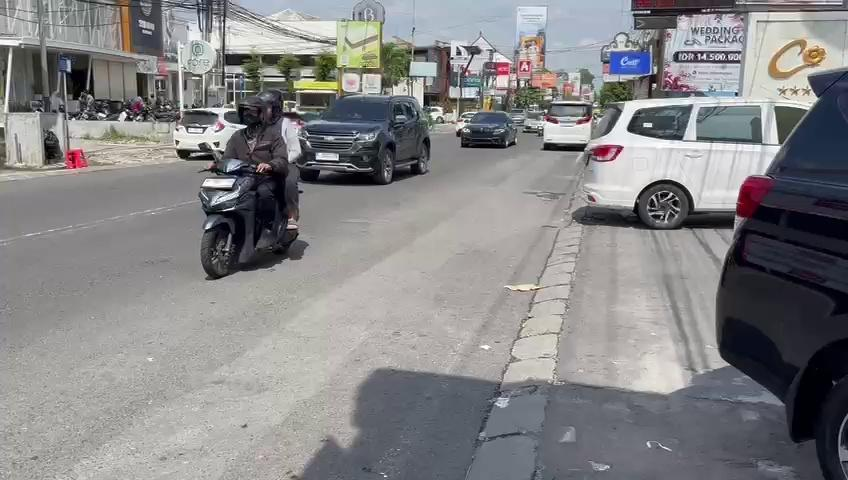helm: (236, 95, 268, 127), (255, 89, 284, 122)
riding: (197, 88, 305, 279)
